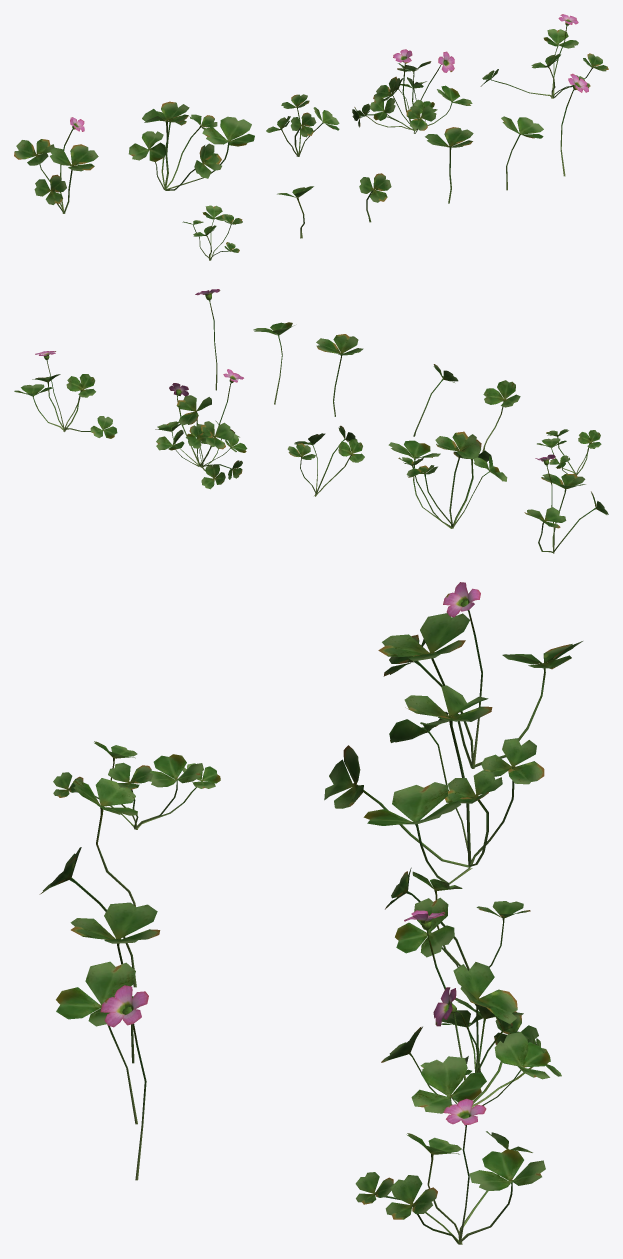
File: shrub_sorrel_01.glb
The picture shows the model from 3 angles, top to bottom: view 1: azimuth 30°, elevation 25°; view 2: azimuth 150°, elevation 25°; view 3: azimuth 270°, elevation 25°; orthographic projection. The views are drawn at different scales.
Visible parts, largest first — view 1: shrub_sorrel_01_b, shrub_sorrel_01_d, shrub_sorrel_01_a, shrub_sorrel_01_e, shrub_sorrel_01_c, shrub_sorrel_01_f, shrub_sorrel_01_i, shrub_sorrel_01_h, shrub_sorrel_01_j, shrub_sorrel_01_k; view 2: shrub_sorrel_01_d, shrub_sorrel_01_b, shrub_sorrel_01_e, shrub_sorrel_01_a, shrub_sorrel_01_c, shrub_sorrel_01_f, shrub_sorrel_01_i, shrub_sorrel_01_g, shrub_sorrel_01_j; view 3: shrub_sorrel_01_b, shrub_sorrel_01_d, shrub_sorrel_01_e, shrub_sorrel_01_a, shrub_sorrel_01_f, shrub_sorrel_01_c, shrub_sorrel_01_j, shrub_sorrel_01_i, shrub_sorrel_01_k, shrub_sorrel_01_g.
Part boxes in pixels (<box>): shrub_sorrel_01_b: <box>128,101,254,190</box>; shrub_sorrel_01_d: <box>352,49,472,133</box>; shrub_sorrel_01_a: <box>14,117,98,213</box>; shrub_sorrel_01_e: <box>480,14,608,98</box>; shrub_sorrel_01_c: <box>266,94,339,156</box>; shrub_sorrel_01_f: <box>182,205,242,260</box>; shrub_sorrel_01_i: <box>425,127,473,203</box>; shrub_sorrel_01_h: <box>359,173,391,222</box>; shrub_sorrel_01_j: <box>501,116,543,190</box>; shrub_sorrel_01_k: <box>560,73,588,176</box>; shrub_sorrel_01_d: <box>155,369,247,489</box>; shrub_sorrel_01_b: <box>388,431,507,528</box>; shrub_sorrel_01_e: <box>14,351,117,438</box>; shrub_sorrel_01_a: <box>524,454,608,553</box>; shrub_sorrel_01_c: <box>287,425,364,496</box>; shrub_sorrel_01_f: <box>537,429,601,475</box>; shrub_sorrel_01_i: <box>316,334,363,416</box>; shrub_sorrel_01_g: <box>482,380,520,451</box>; shrub_sorrel_01_j: <box>253,322,294,404</box>; shrub_sorrel_01_b: <box>324,685,544,884</box>; shrub_sorrel_01_d: <box>381,910,561,1113</box>; shrub_sorrel_01_e: <box>355,1098,545,1244</box>; shrub_sorrel_01_a: <box>378,582,582,768</box>; shrub_sorrel_01_f: <box>53,741,220,829</box>; shrub_sorrel_01_c: <box>385,867,530,970</box>; shrub_sorrel_01_j: <box>56,961,137,1124</box>; shrub_sorrel_01_i: <box>70,902,160,1063</box>; shrub_sorrel_01_k: <box>100,985,148,1180</box>; shrub_sorrel_01_g: <box>73,778,137,906</box>.
Size of the model in its own units: 0.3521 by 0.058 by 0.1464.
1 material, 1 textured.
